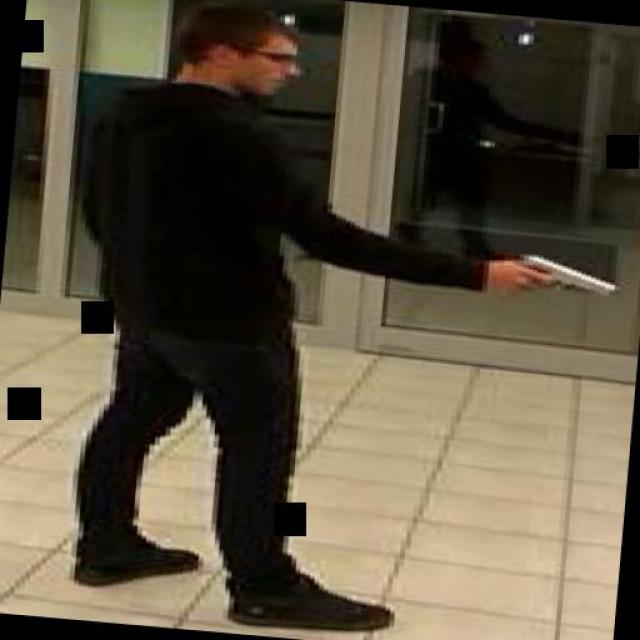gun: (498, 249, 622, 305)
